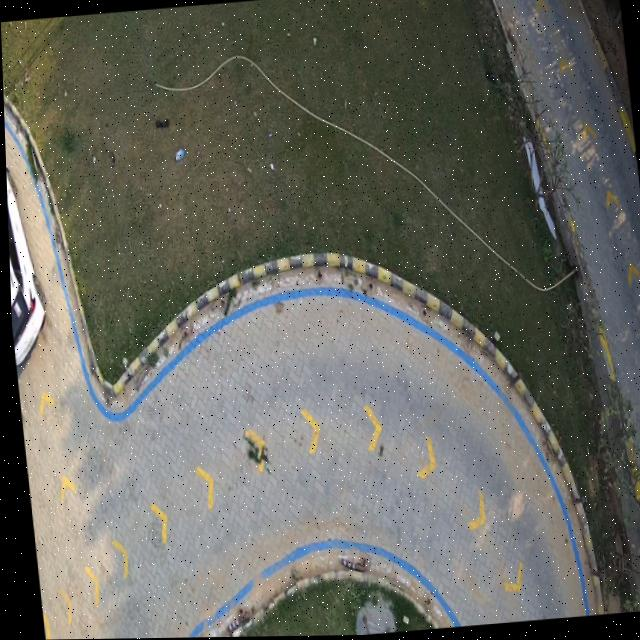car: (5, 165, 42, 366)
